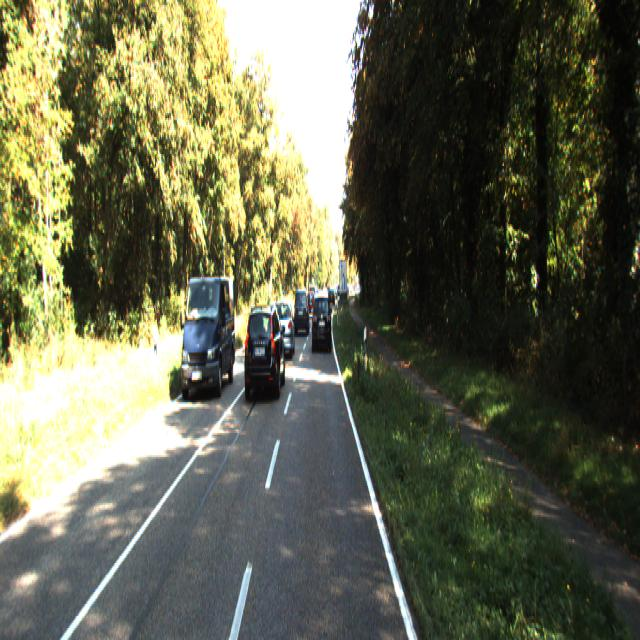Car: (180, 272, 237, 399), (243, 297, 286, 399), (273, 295, 295, 355), (312, 288, 331, 348), (294, 285, 310, 331)
